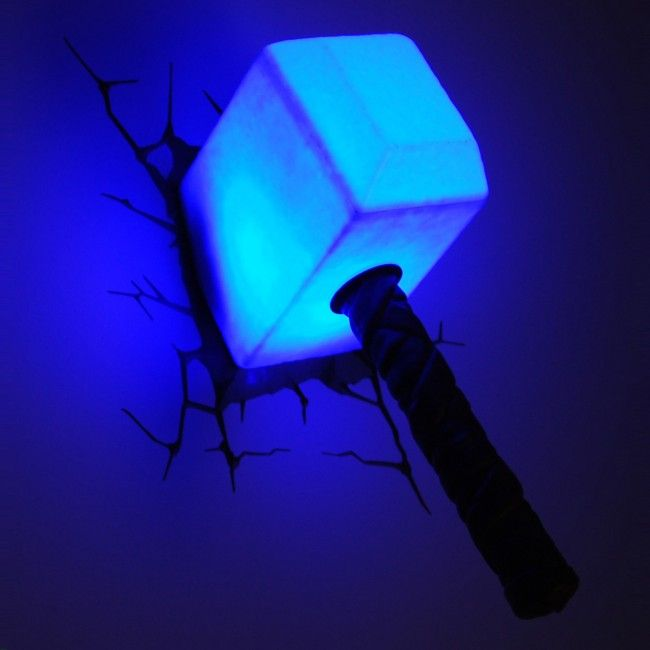THOR Hammer: (132, 43, 593, 618)
